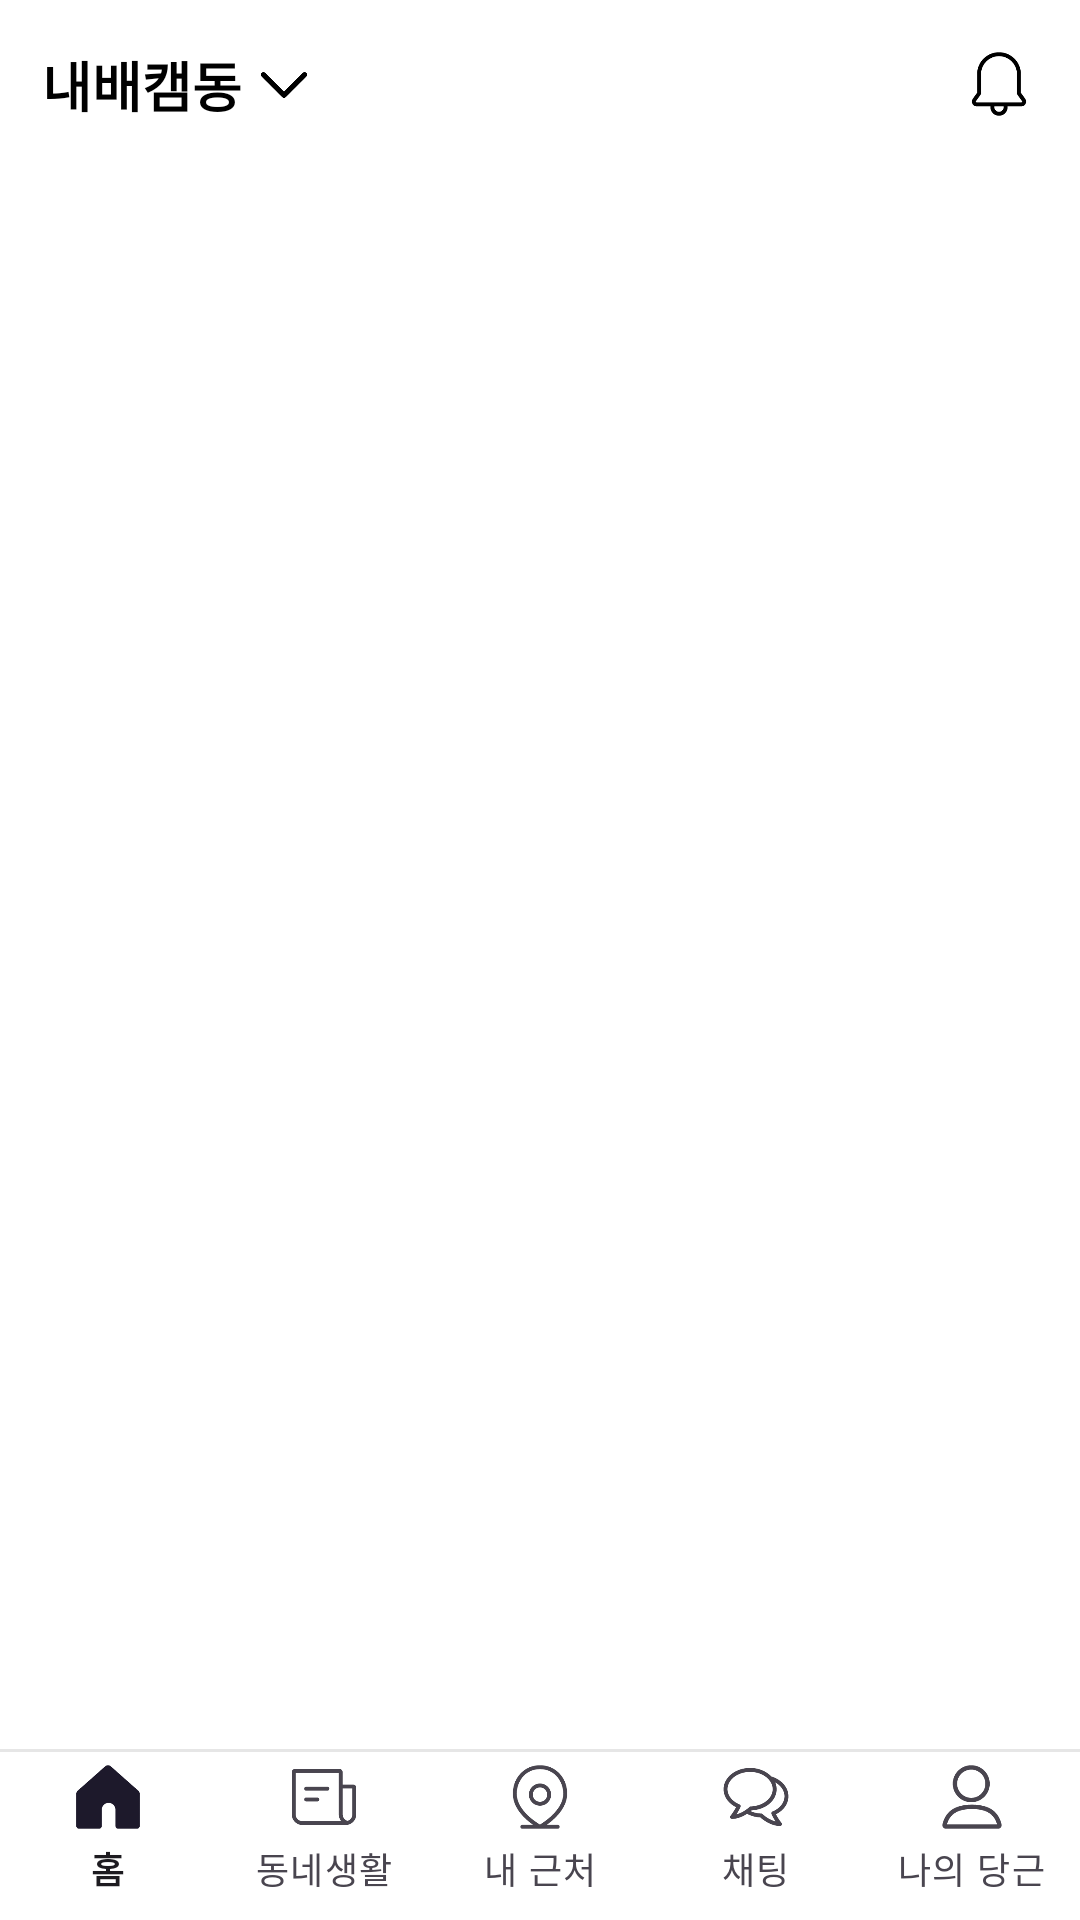

Screen size 1080 × 1920. Icon name, then its box in pixels as BBox(x1, y1, x2, y2):
alarm: BBox(972, 52, 1026, 116)
arrow: BBox(261, 72, 307, 98)
